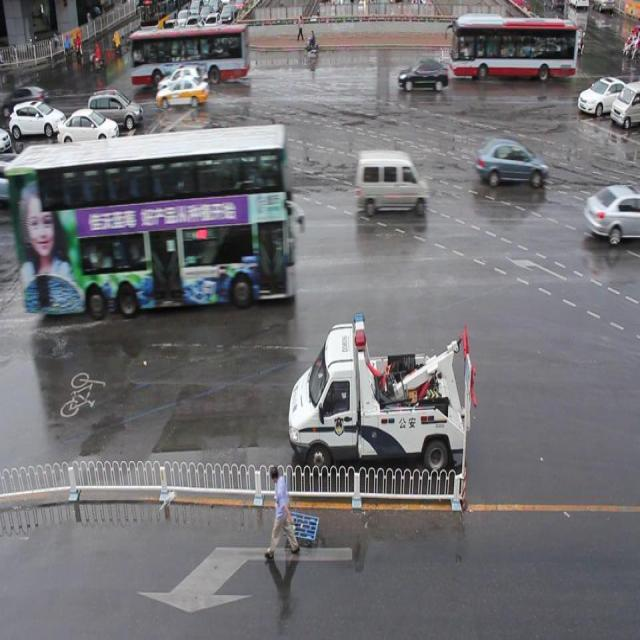car: (474, 136, 548, 190), (215, 167, 284, 215), (583, 185, 640, 242), (576, 75, 631, 116), (396, 59, 449, 93), (156, 76, 210, 108)
truck: (353, 149, 428, 217)
van: (15, 126, 291, 303), (448, 13, 576, 78), (130, 27, 250, 81)
